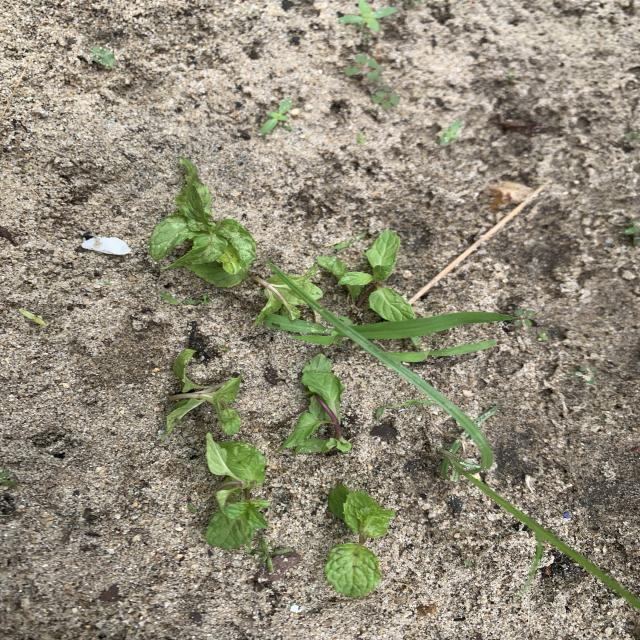crop: (150, 158, 257, 287), (317, 230, 416, 321), (324, 485, 394, 597), (206, 433, 269, 551), (161, 349, 242, 440), (279, 354, 351, 454), (255, 262, 323, 326)
weed: (306, 300, 493, 480), (470, 479, 640, 609), (351, 312, 517, 339), (390, 337, 496, 362), (263, 314, 345, 345), (338, 0, 397, 33), (374, 399, 439, 421), (260, 98, 299, 134), (345, 53, 384, 86), (84, 44, 129, 72), (158, 291, 210, 306), (371, 86, 400, 110), (331, 233, 366, 252), (439, 120, 461, 146), (621, 220, 640, 248), (18, 308, 46, 326), (263, 540, 277, 575), (0, 470, 27, 487), (512, 310, 537, 327), (356, 133, 372, 145), (539, 333, 549, 341)
